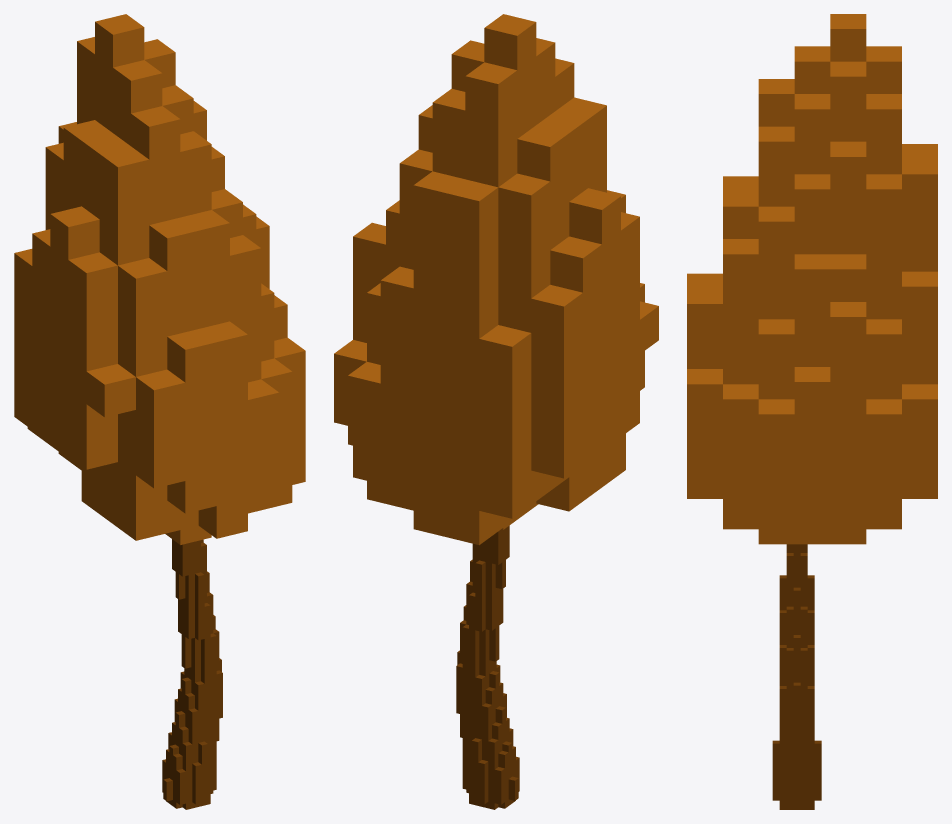
Rendered from Voxeltree_01_orange.glb.
3 renders of one model, left to right at view 1: azimuth 30°, elevation 25°; view 2: azimuth 150°, elevation 25°; view 3: azimuth 270°, elevation 25°, orthographic. The views are drawn at different scales.
Visible parts, largest first — view 1: Voxeltree_01_orange_Wood_0; view 2: Voxeltree_01_orange_Wood_0; view 3: Voxeltree_01_orange_Wood_0.
Boxes of the visible parts, x1,y1,x2,y2 form: Voxeltree_01_orange_Wood_0: (14, 14, 305, 809); Voxeltree_01_orange_Wood_0: (334, 14, 658, 809); Voxeltree_01_orange_Wood_0: (687, 14, 937, 809).
Size of the model in its own units: 3.07 by 10.29 by 3.07.
